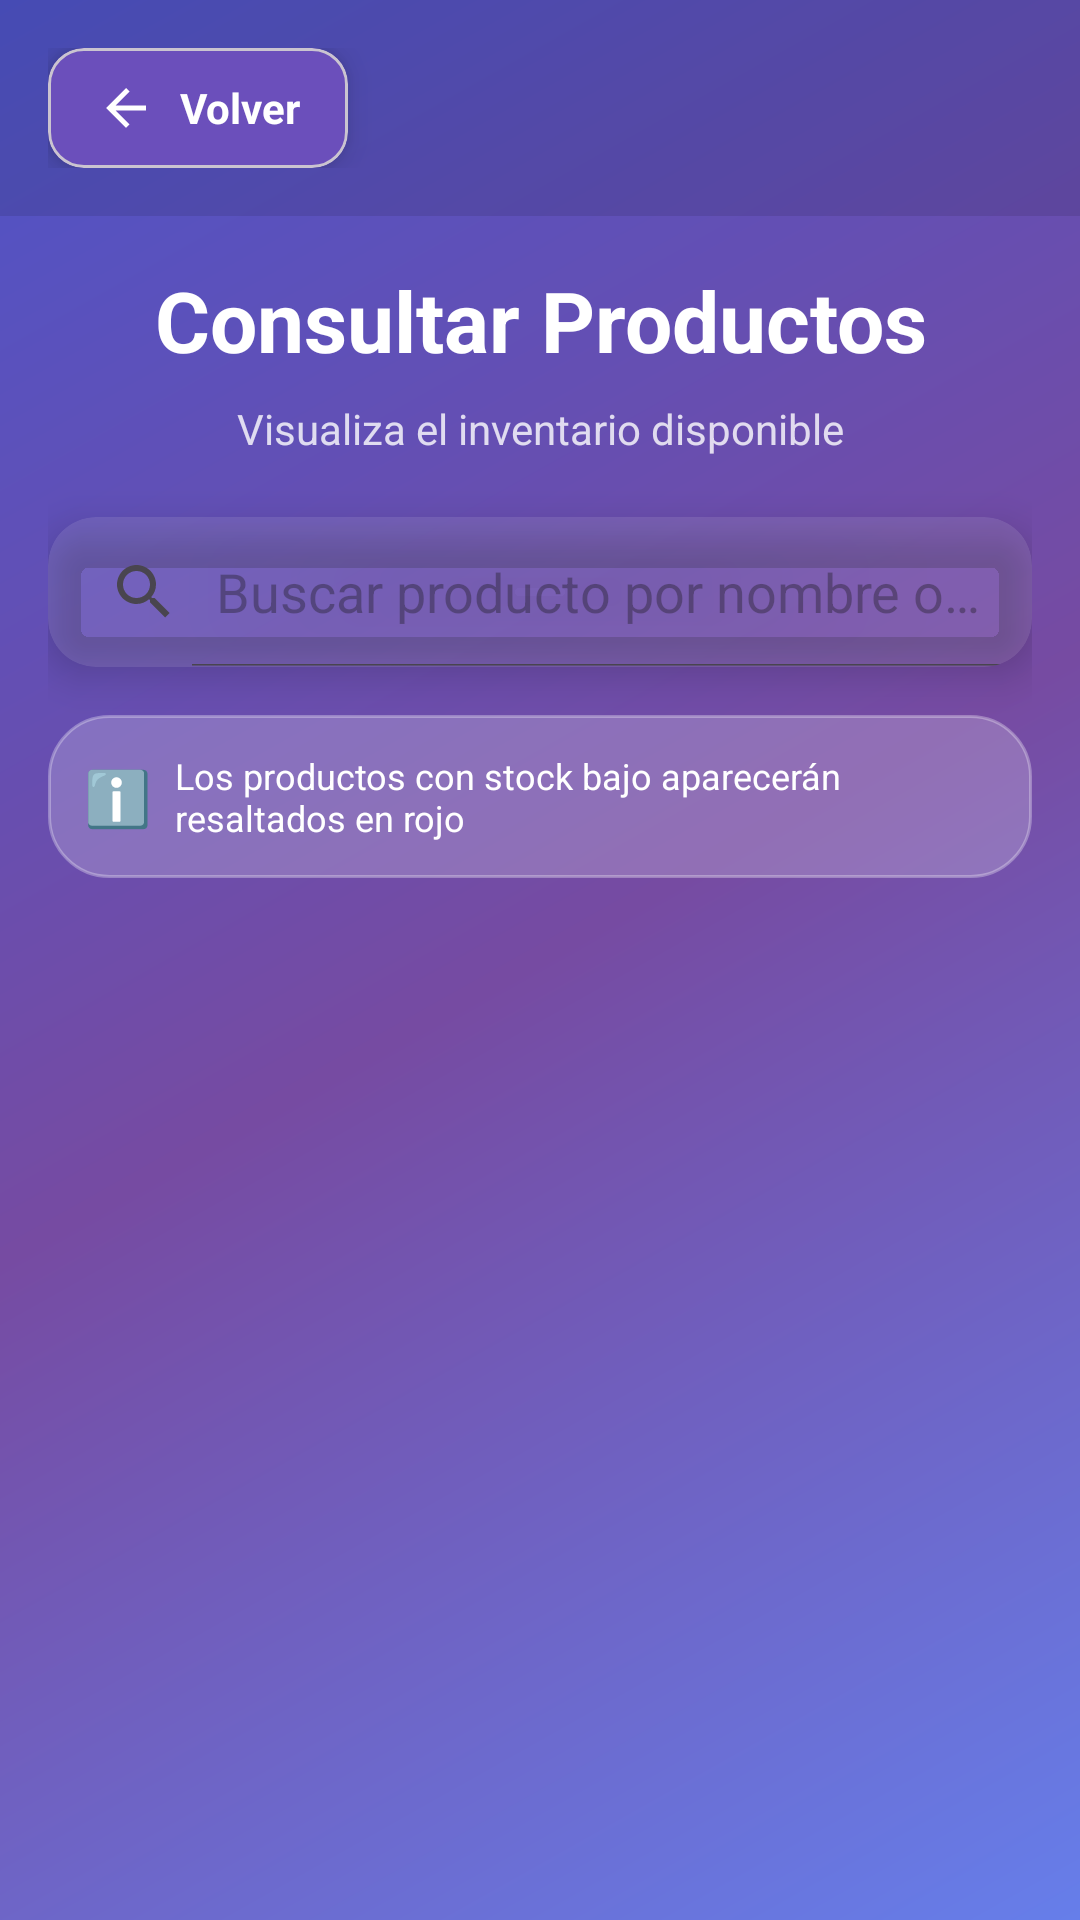

Named icons in this screenshot (1080 × 1920) and their bounding boxes, (x1, y1, x2, y2):
arrow back: (106, 88, 146, 128)
